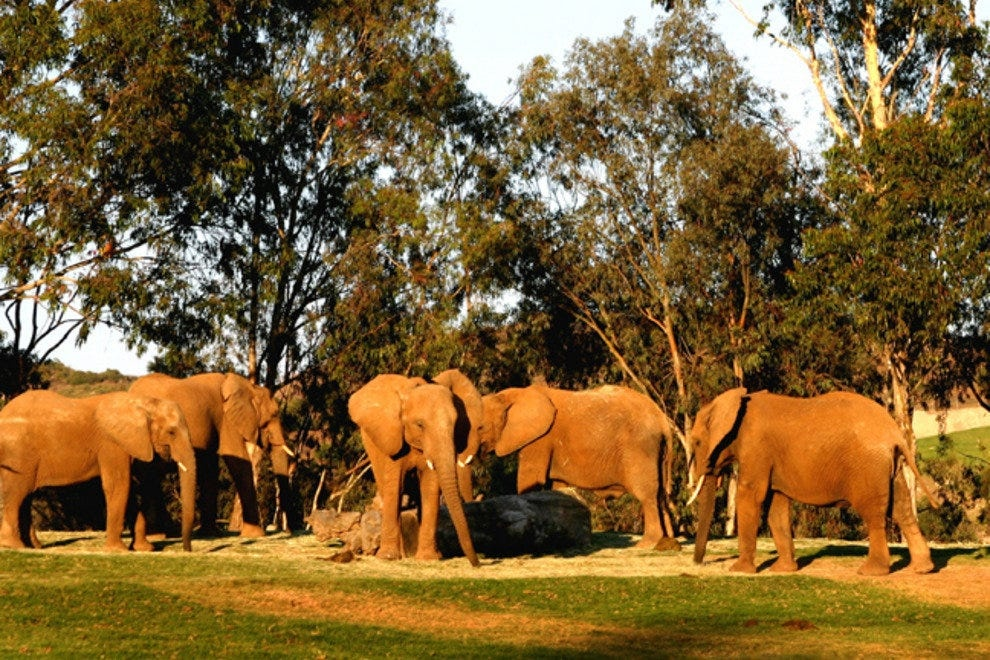elephant: (563, 463, 787, 629), (810, 478, 990, 660), (100, 469, 298, 633), (216, 454, 391, 626), (415, 465, 557, 660)
